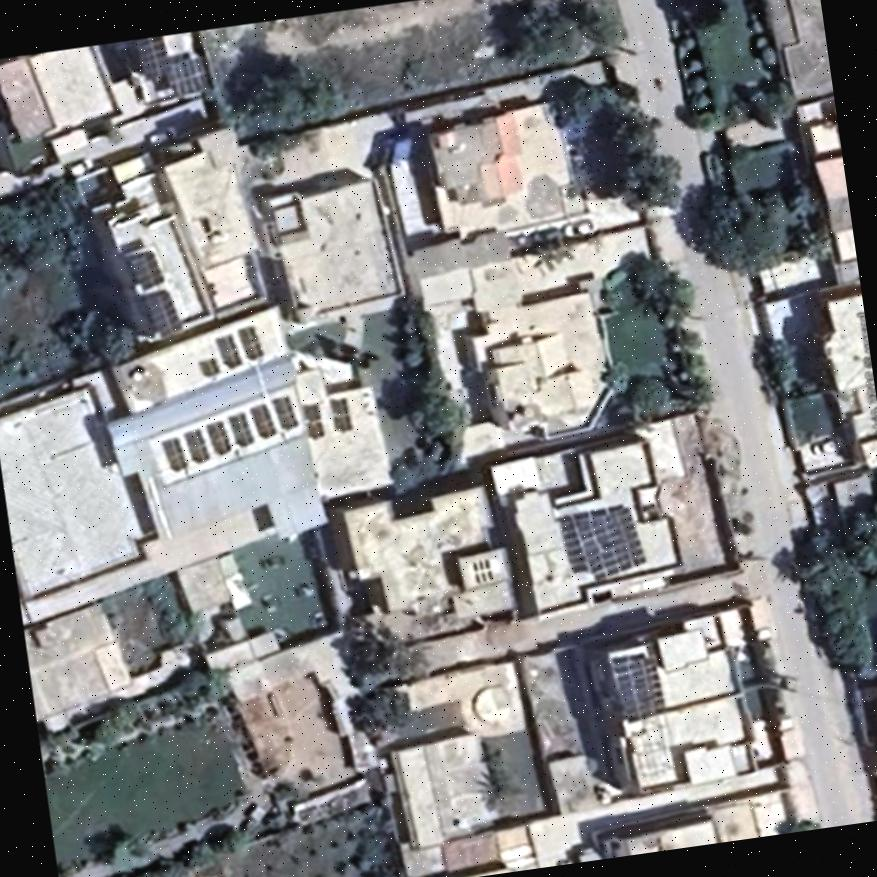Solarpanel: (572, 503, 642, 584), (615, 656, 662, 723), (145, 289, 183, 336), (165, 55, 209, 94), (134, 35, 171, 80), (131, 250, 166, 290), (179, 428, 205, 460), (235, 322, 258, 358), (204, 420, 229, 452), (249, 404, 273, 436), (227, 413, 250, 445), (161, 439, 187, 467), (273, 395, 294, 429), (215, 334, 239, 363)
